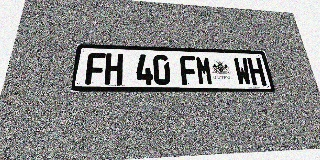0: (153, 55, 170, 85)
4: (136, 54, 153, 85)
F: (85, 53, 106, 85), (180, 56, 198, 85)
H: (104, 53, 123, 85), (247, 58, 267, 86)
M: (195, 56, 214, 85)
W: (233, 57, 252, 85)
